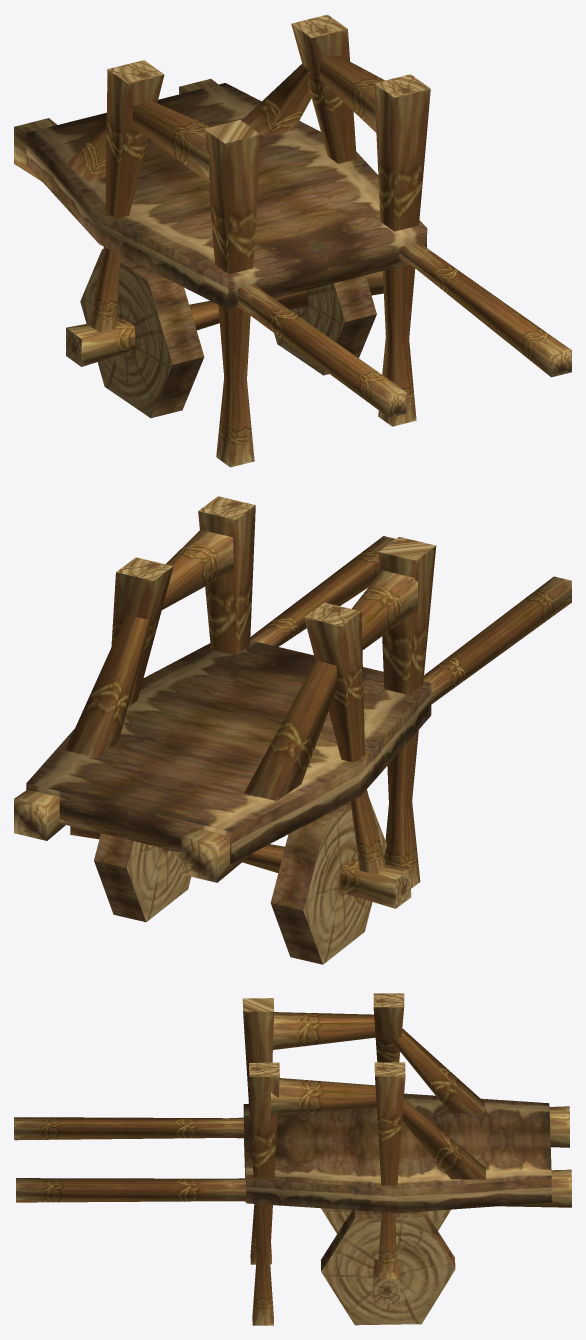
File: environment_common_shoutuiche_001_a.FBX
3 renders of one model, top to bottom at view 1: azimuth 30°, elevation 25°; view 2: azimuth 150°, elevation 25°; view 3: azimuth 270°, elevation 25°, orthographic. The views are drawn at different scales.
Visible parts, largest first — view 1: environment_common_shoutuiche_001_a; view 2: environment_common_shoutuiche_001_a; view 3: environment_common_shoutuiche_001_a.
Boxes of the visible parts, x1=… form: environment_common_shoutuiche_001_a: x1=14, y1=14, x2=571, y2=467; environment_common_shoutuiche_001_a: x1=14, y1=496, x2=571, y2=964; environment_common_shoutuiche_001_a: x1=14, y1=993, x2=571, y2=1325.
Bounding box in the file's own units: 170 × 169 × 337.
Materials: 1 (1 with a texture image).
